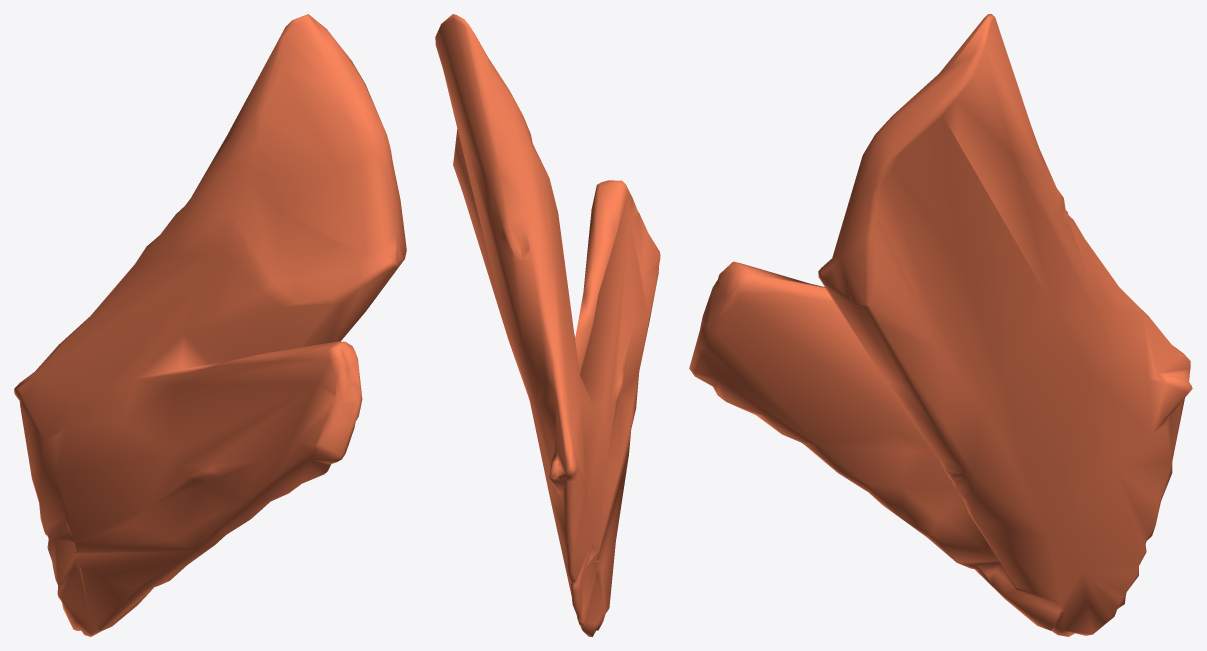
The model's file is Medial_pterygoid_muscle.r_Generated_Mesh_From_X3D.351.glb.
3 views of the same model, side by side, from view 1: azimuth 30°, elevation 25°; view 2: azimuth 150°, elevation 25°; view 3: azimuth 270°, elevation 25° (orthographic). The views are drawn at different scales.
Visible parts, largest first — view 1: Medial_pterygoid_muscle.r_Generated_Mesh_From_X3D.351; view 2: Medial_pterygoid_muscle.r_Generated_Mesh_From_X3D.351; view 3: Medial_pterygoid_muscle.r_Generated_Mesh_From_X3D.351.
Part boxes in pixels (x1,y1,x2,y2): Medial_pterygoid_muscle.r_Generated_Mesh_From_X3D.351: (14, 14, 406, 636); Medial_pterygoid_muscle.r_Generated_Mesh_From_X3D.351: (435, 14, 660, 636); Medial_pterygoid_muscle.r_Generated_Mesh_From_X3D.351: (689, 14, 1192, 636).
Size of the model in its own units: 0.0224 by 0.0492 by 0.0307.
